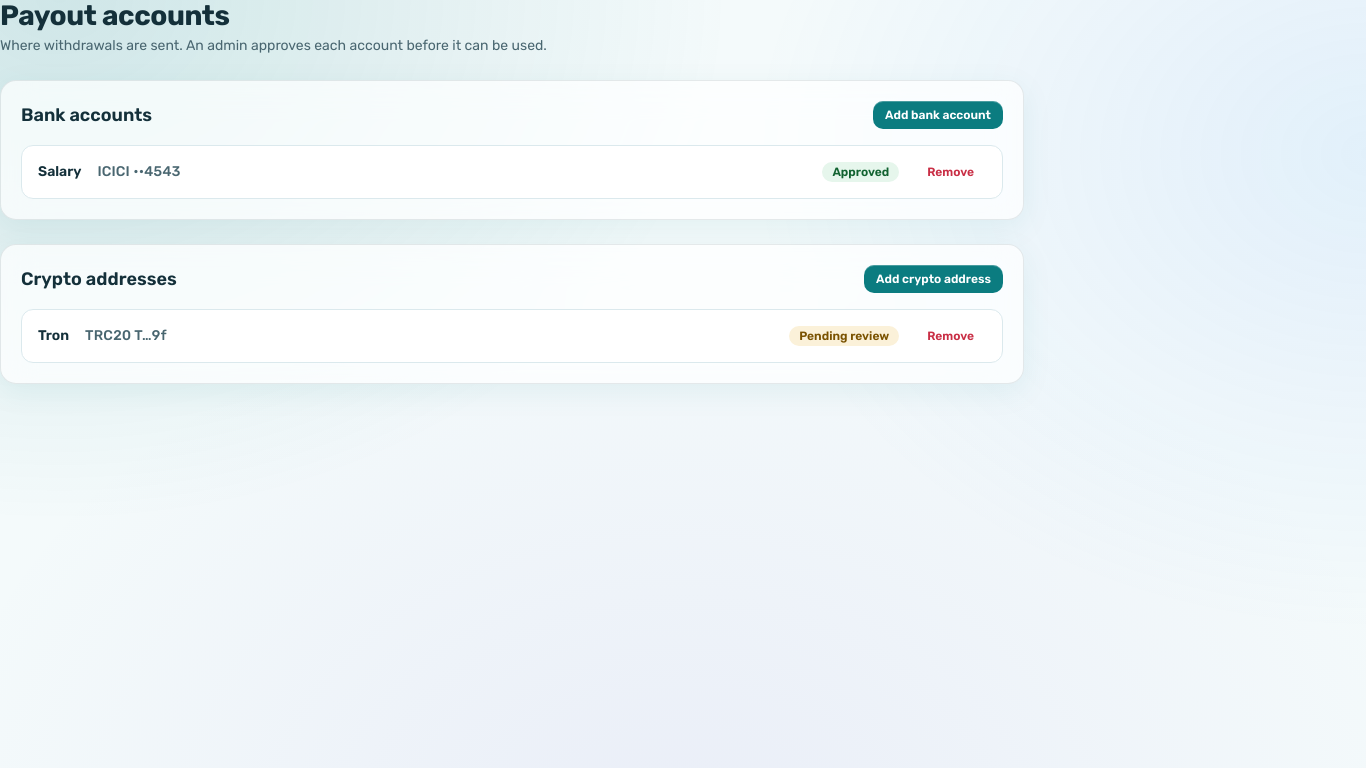
Test case: Remove asks first, posts the remove route, and drops the row
The image size is (1366, 768).
Click the button with aria-label "Remove Salary".
click(951, 172)  # box [915,158,986,186]
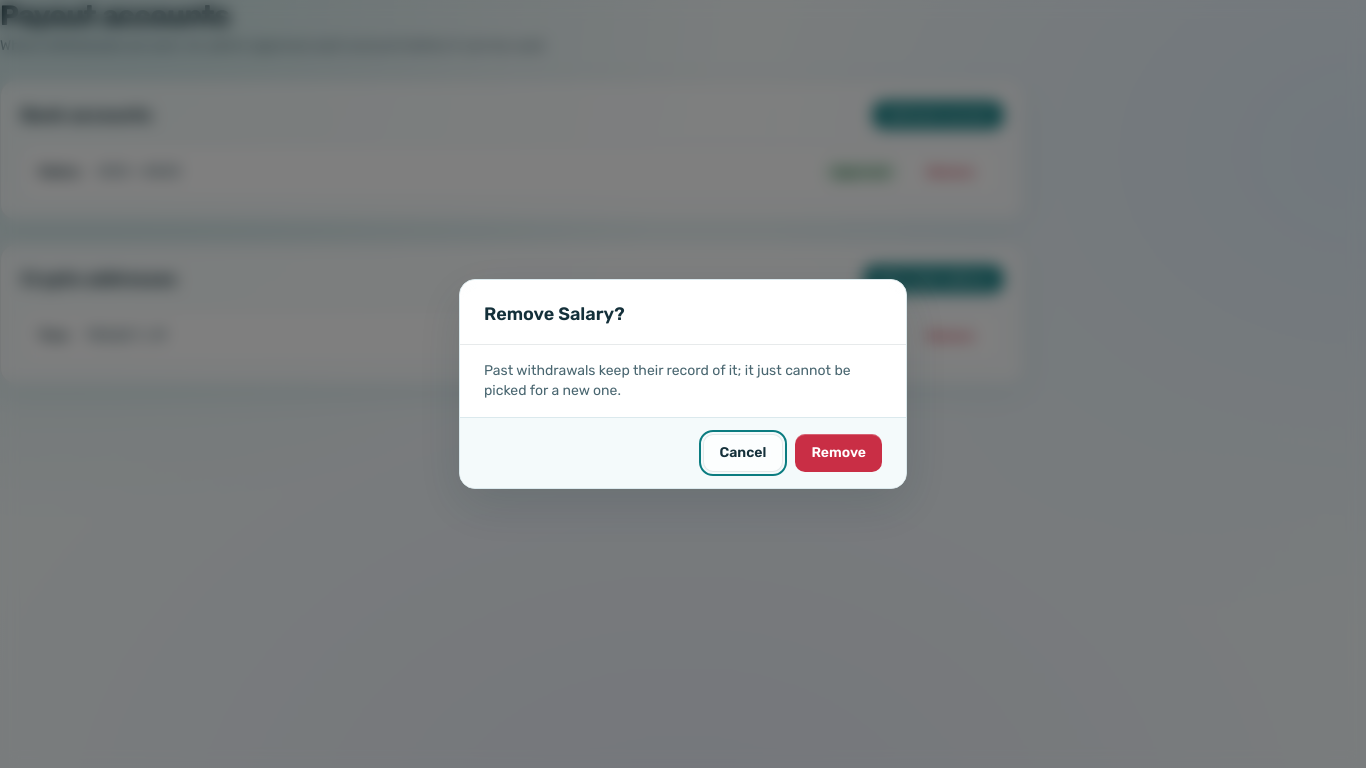
Click the button "Remove".
click(839, 453)  # box [795,434,882,472]
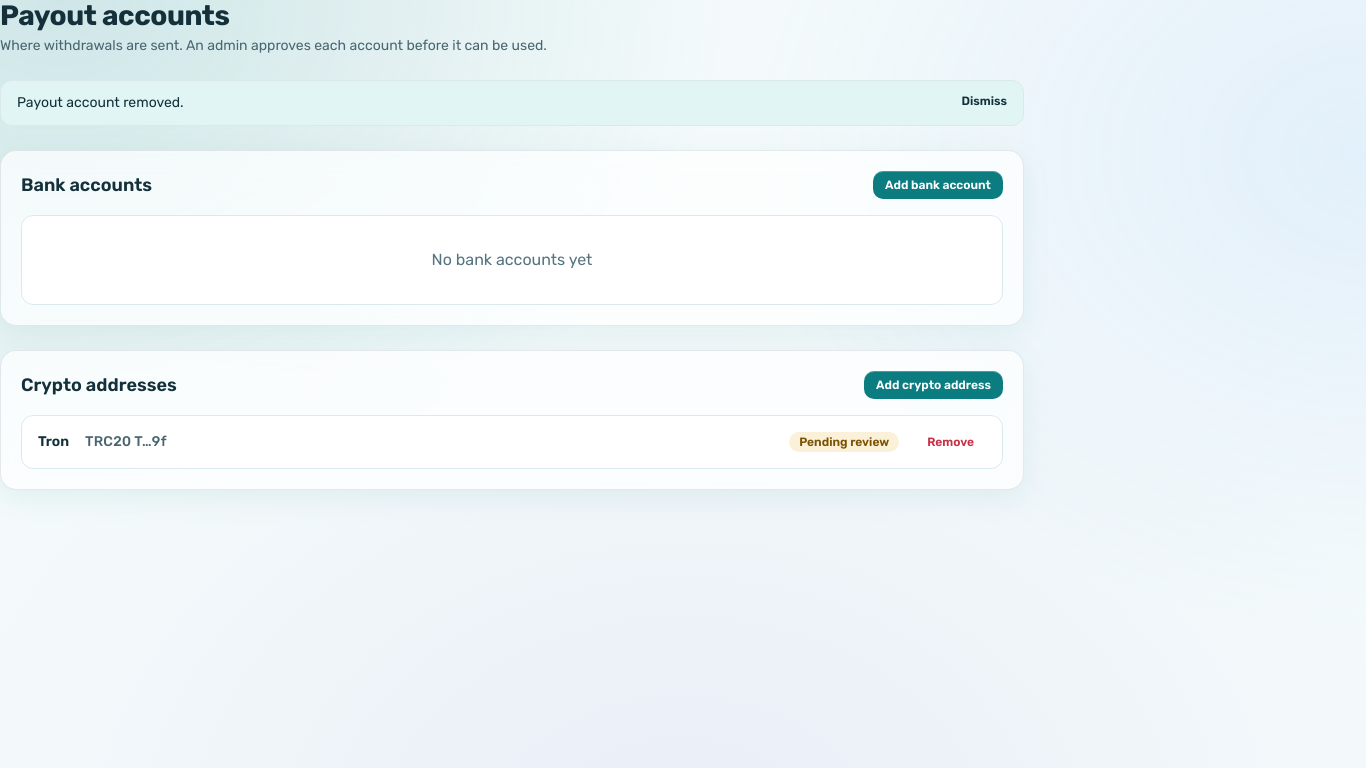
Expected: the text "Tron" is shown, [38,432,69,452]
Expected: the text "Salary" is gone
